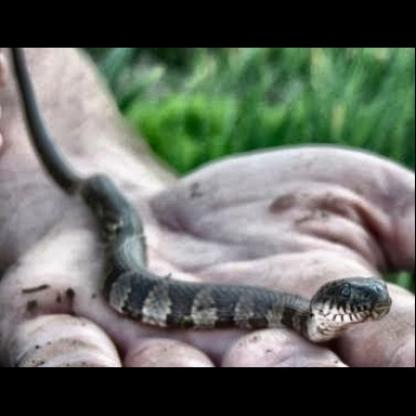Snake: (81, 159, 395, 346)
